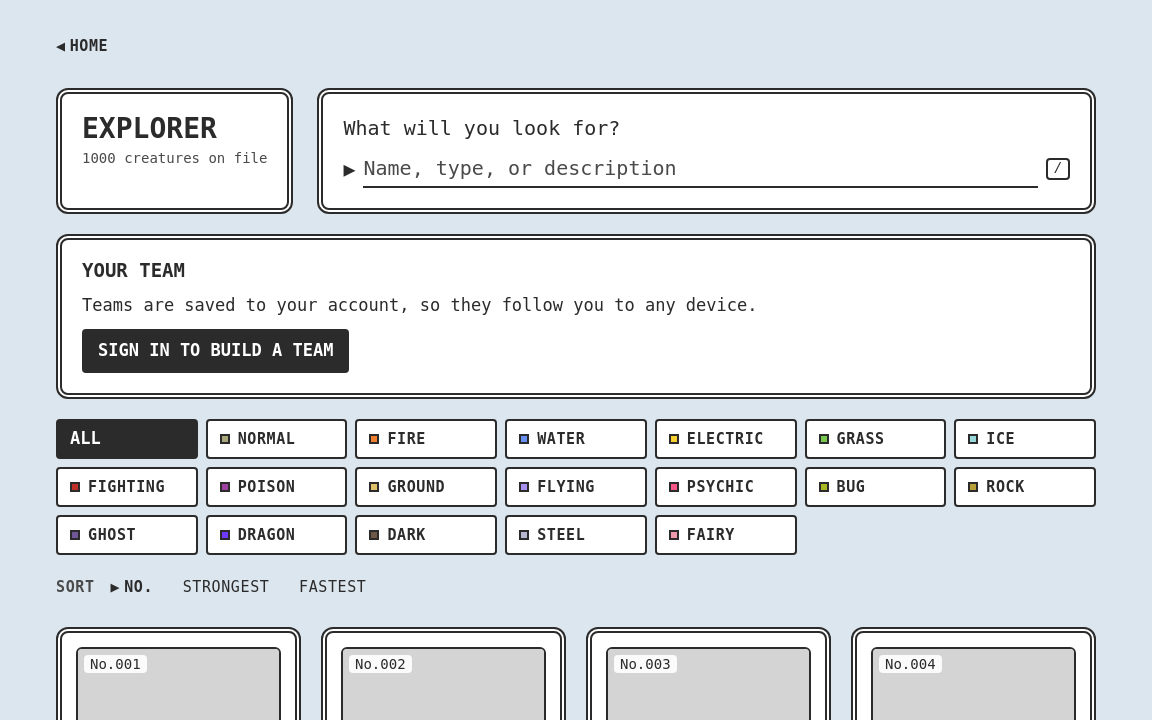
ExplorerScreen › filters by a single type and clears with All
Click the button "Fire": [426, 439] box [355,419,497,459]
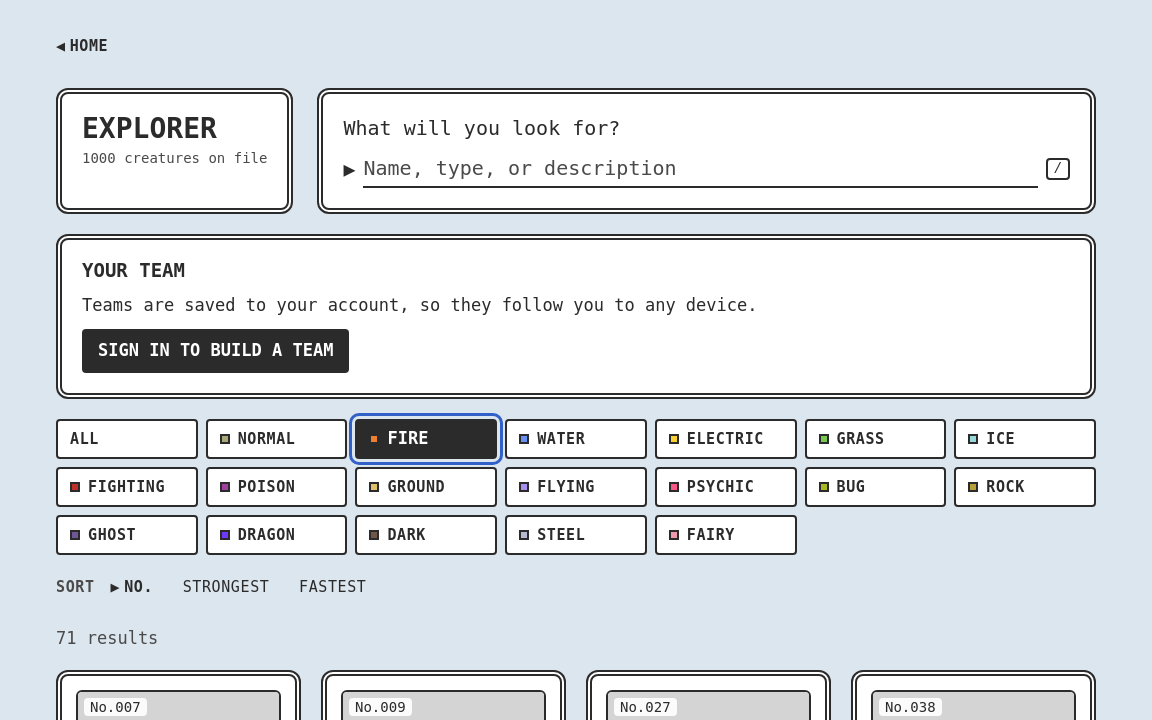
Expected: the text "71 results" is shown, [56,628,158,648]
Click the button "All": [127, 439] box [56,419,198,459]
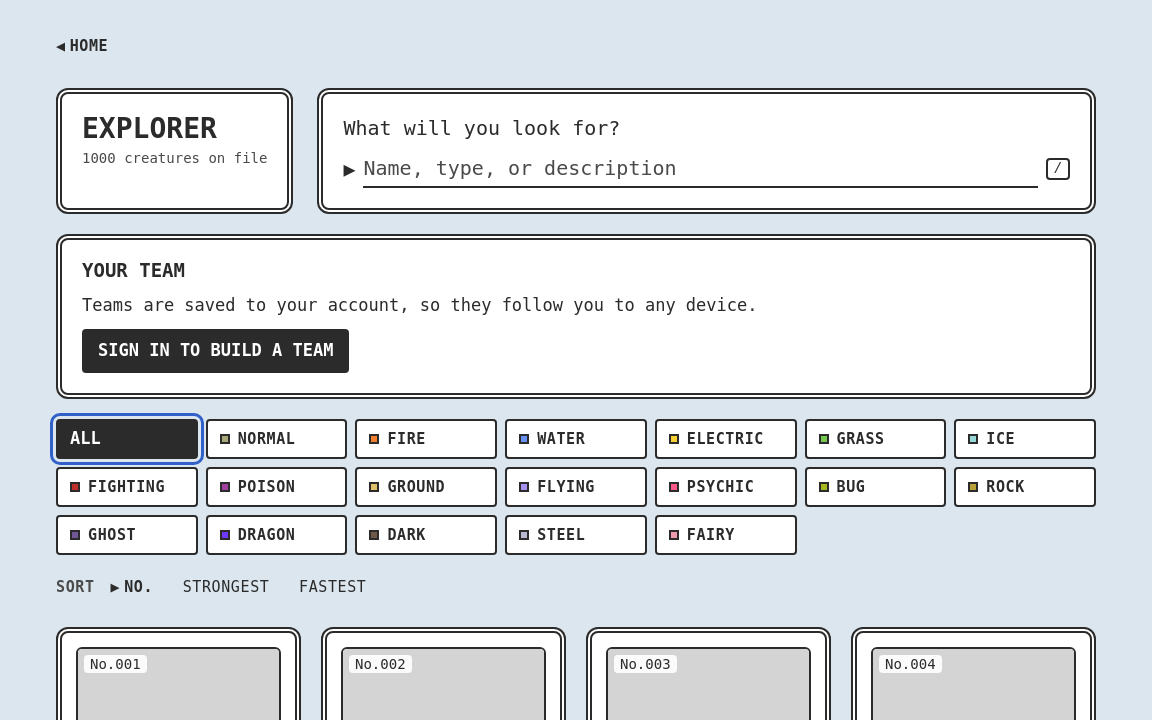
Expected: the text "results" is gone
